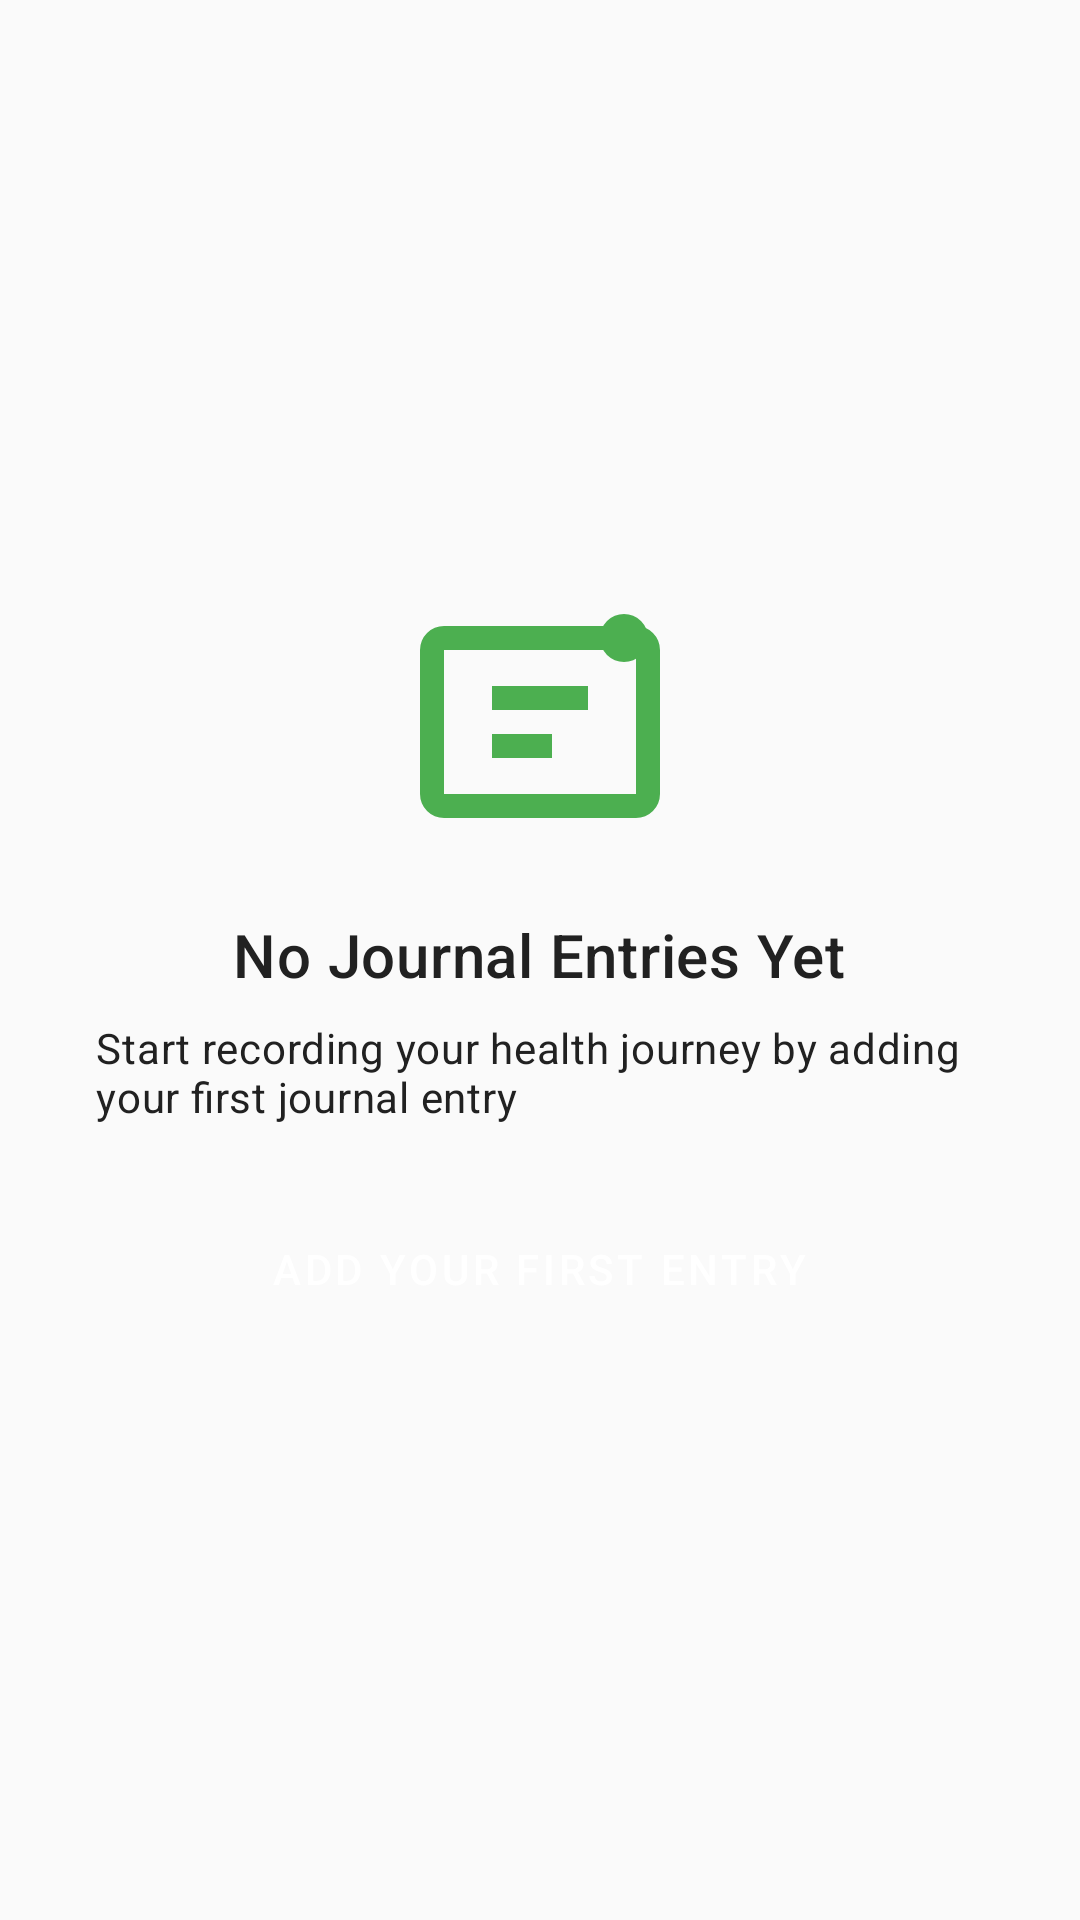

Icons on this 1080 × 1920 Android screen, each with the point to tap as point (x, y):
Empty journal icon: point (540, 716)
